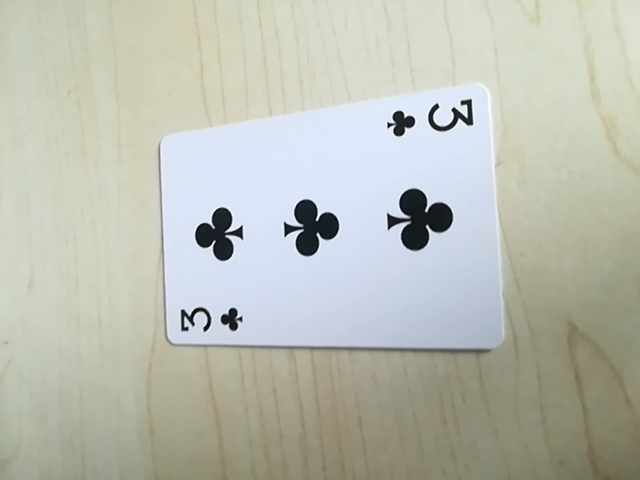mh 3: (383, 93, 480, 139), (172, 302, 246, 338)
